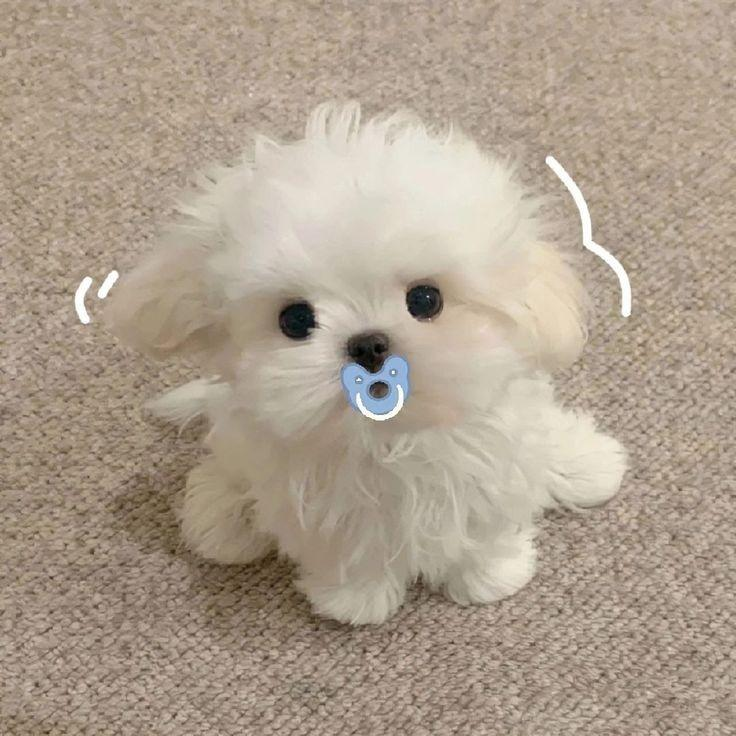puppy-dog: (87, 101, 629, 626)
